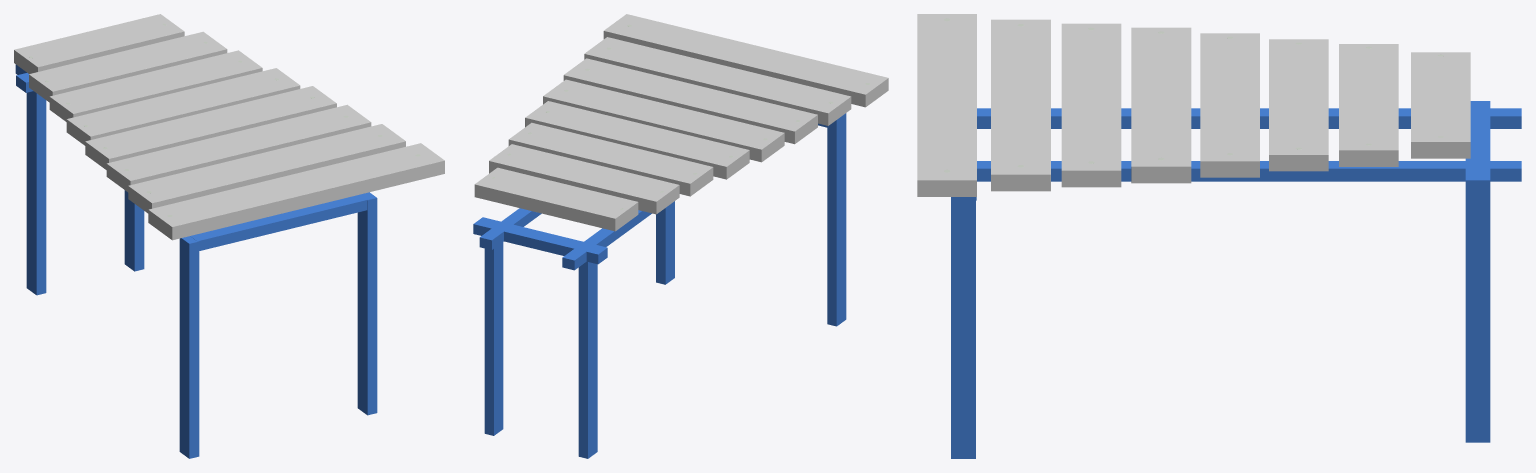
File: marimba_key_stand.fbx
The picture shows the model from 3 angles, left to right: view 1: azimuth 30°, elevation 25°; view 2: azimuth 150°, elevation 25°; view 3: azimuth 270°, elevation 25°; orthographic projection. The views are drawn at different scales.
Visible parts, largest first — view 1: stand, F3, G3, A3, B3, C4, D4, E4, F4; view 2: stand, F3, G3, A3, B3, C4, F4, D4, E4; view 3: stand, F3, G3, A3, B3, C4, D4, E4, F4.
Part boxes in pixels (left/top/right/bottom): stand: left=15, top=64, right=377, bottom=458; F3: left=148, top=143, right=444, bottom=240; G3: left=128, top=124, right=405, bottom=213; A3: left=106, top=104, right=371, bottom=192; B3: left=85, top=86, right=336, bottom=169; C4: left=66, top=68, right=300, bottom=145; D4: left=49, top=50, right=262, bottom=121; E4: left=29, top=31, right=227, bottom=102; F4: left=14, top=14, right=184, bottom=73; stand: left=473, top=113, right=846, bottom=458; F3: left=603, top=14, right=888, bottom=107; G3: left=584, top=37, right=851, bottom=125; A3: left=563, top=58, right=817, bottom=144; B3: left=543, top=79, right=784, bottom=162; C4: left=525, top=101, right=749, bottom=179; F4: left=474, top=167, right=638, bottom=231; D4: left=508, top=122, right=713, bottom=196; E4: left=489, top=144, right=679, bottom=214; stand: left=951, top=101, right=1521, bottom=458; F3: left=917, top=14, right=976, bottom=196; G3: left=991, top=19, right=1050, bottom=191; A3: left=1061, top=23, right=1121, bottom=187; B3: left=1131, top=27, right=1191, bottom=183; C4: left=1200, top=33, right=1259, bottom=177; D4: left=1269, top=39, right=1328, bottom=171; E4: left=1339, top=44, right=1398, bottom=166; F4: left=1411, top=52, right=1470, bottom=158.
Size of the model in its own units: 107 by 93.78 by 165.
